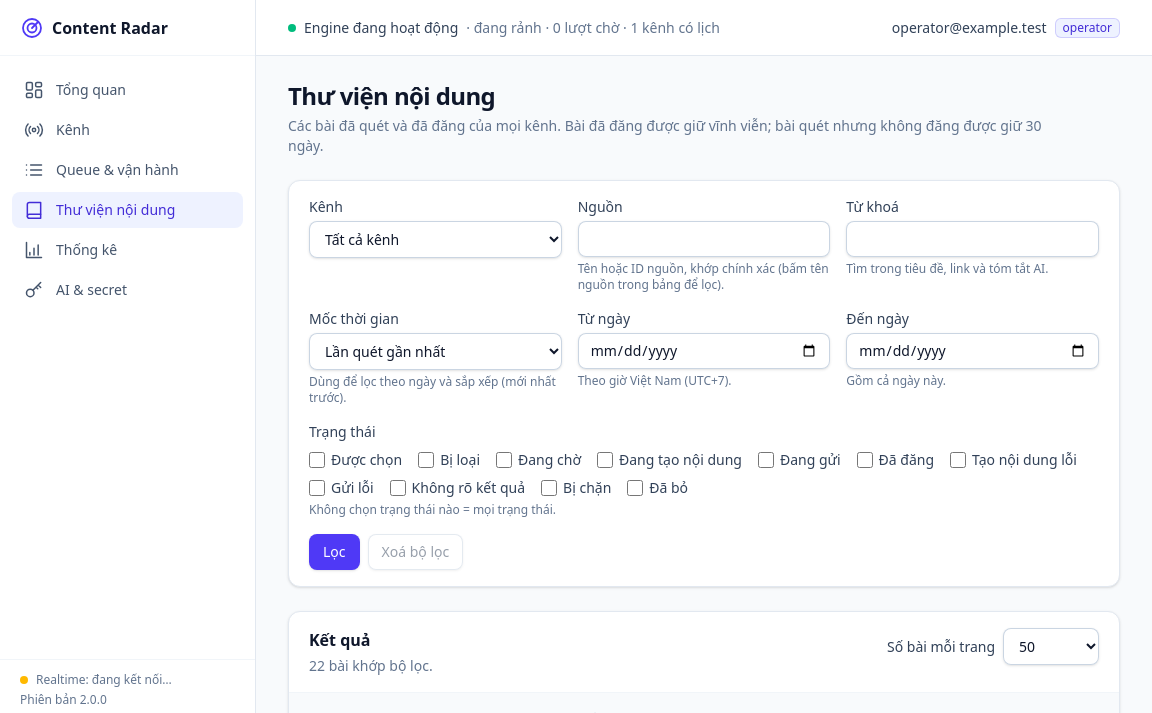
it: LibraryPage › rejects a date range that ends before it starts, without navigating
The width and height of the screenshot is (1152, 713).
Step 1. Type "2026-10-05" into the date field labelled "Từ ngày" → (704, 351), box [578,333,830,369]
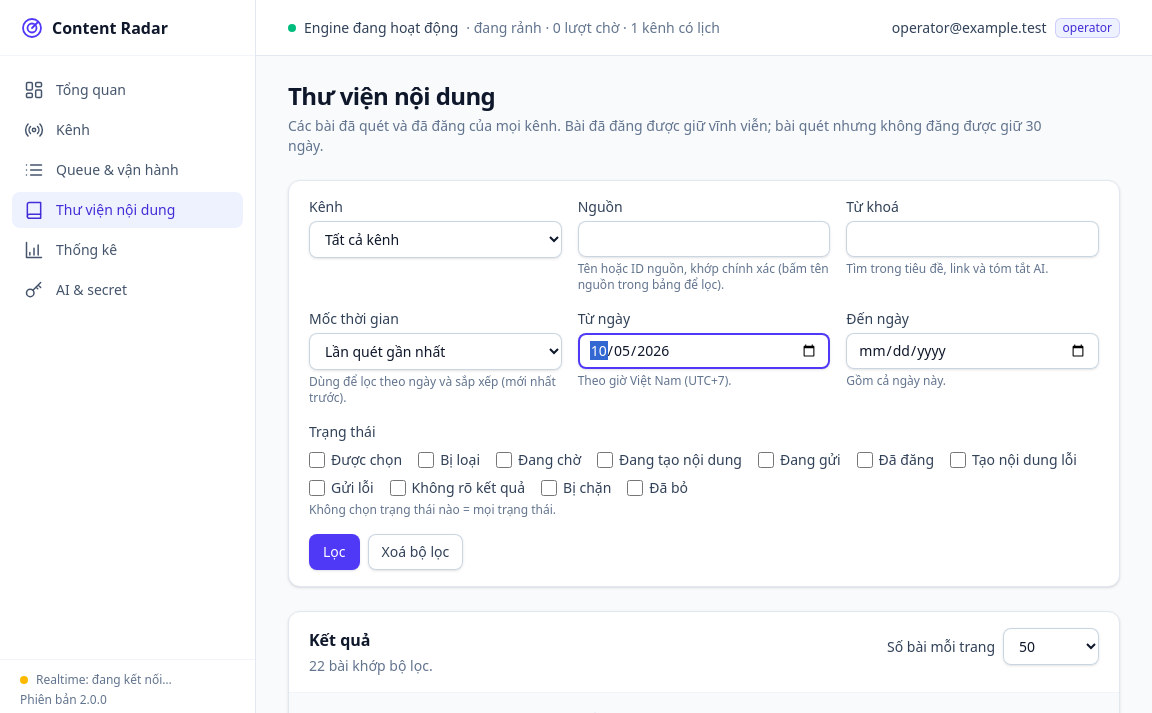
Step 2. Type "2026-10-01" into the date field labelled "Đến ngày" → (973, 351), box [846,333,1099,369]
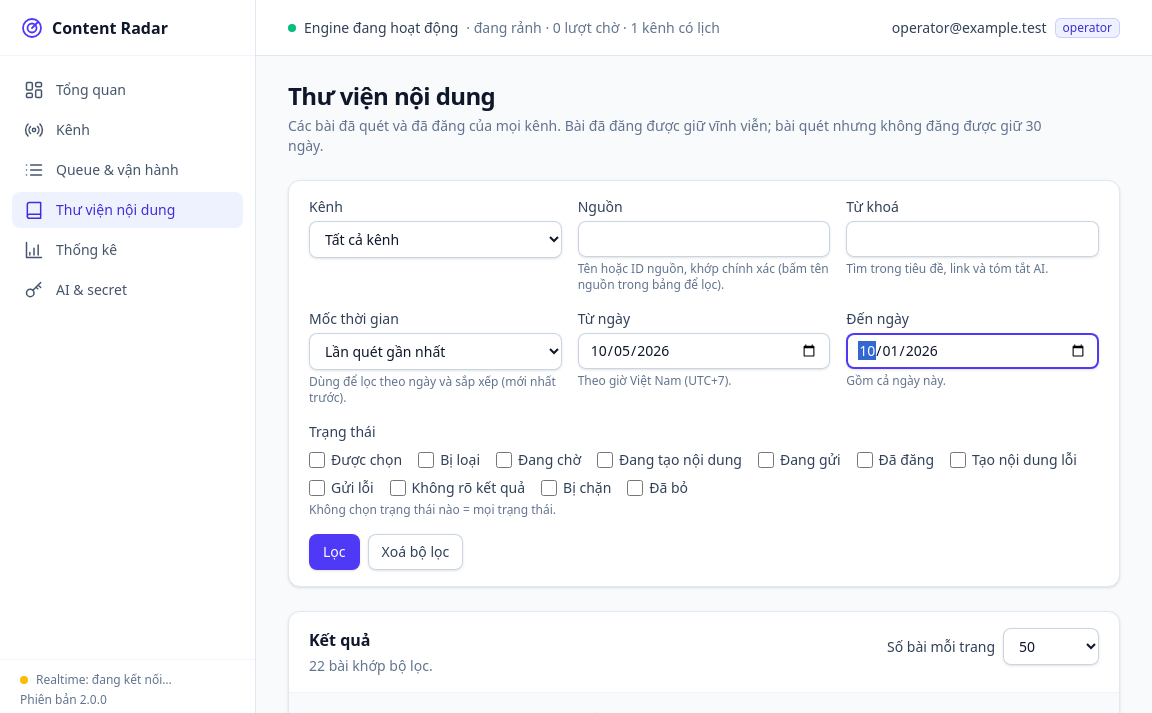
Step 3. Click the button "Lọc" → (334, 552), box [309,534,360,570]
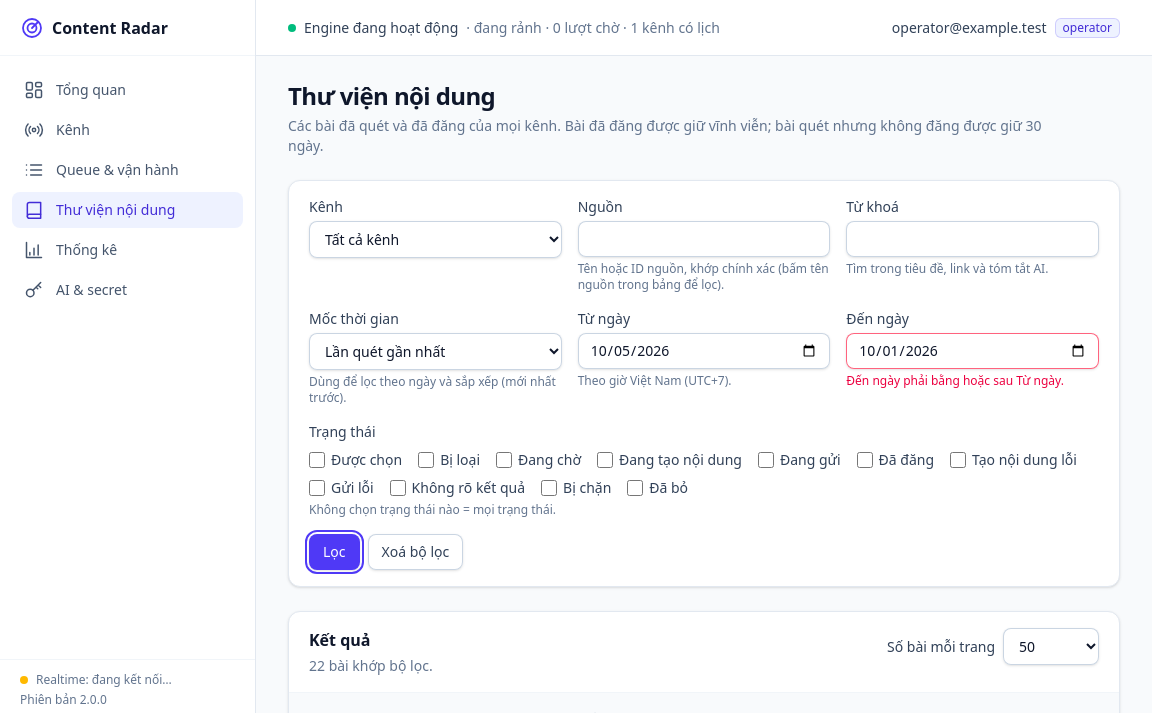
Expected: the text "Đến ngày phải bằng hoặc sau Từ ngày." is shown, [846,373,1099,389]
